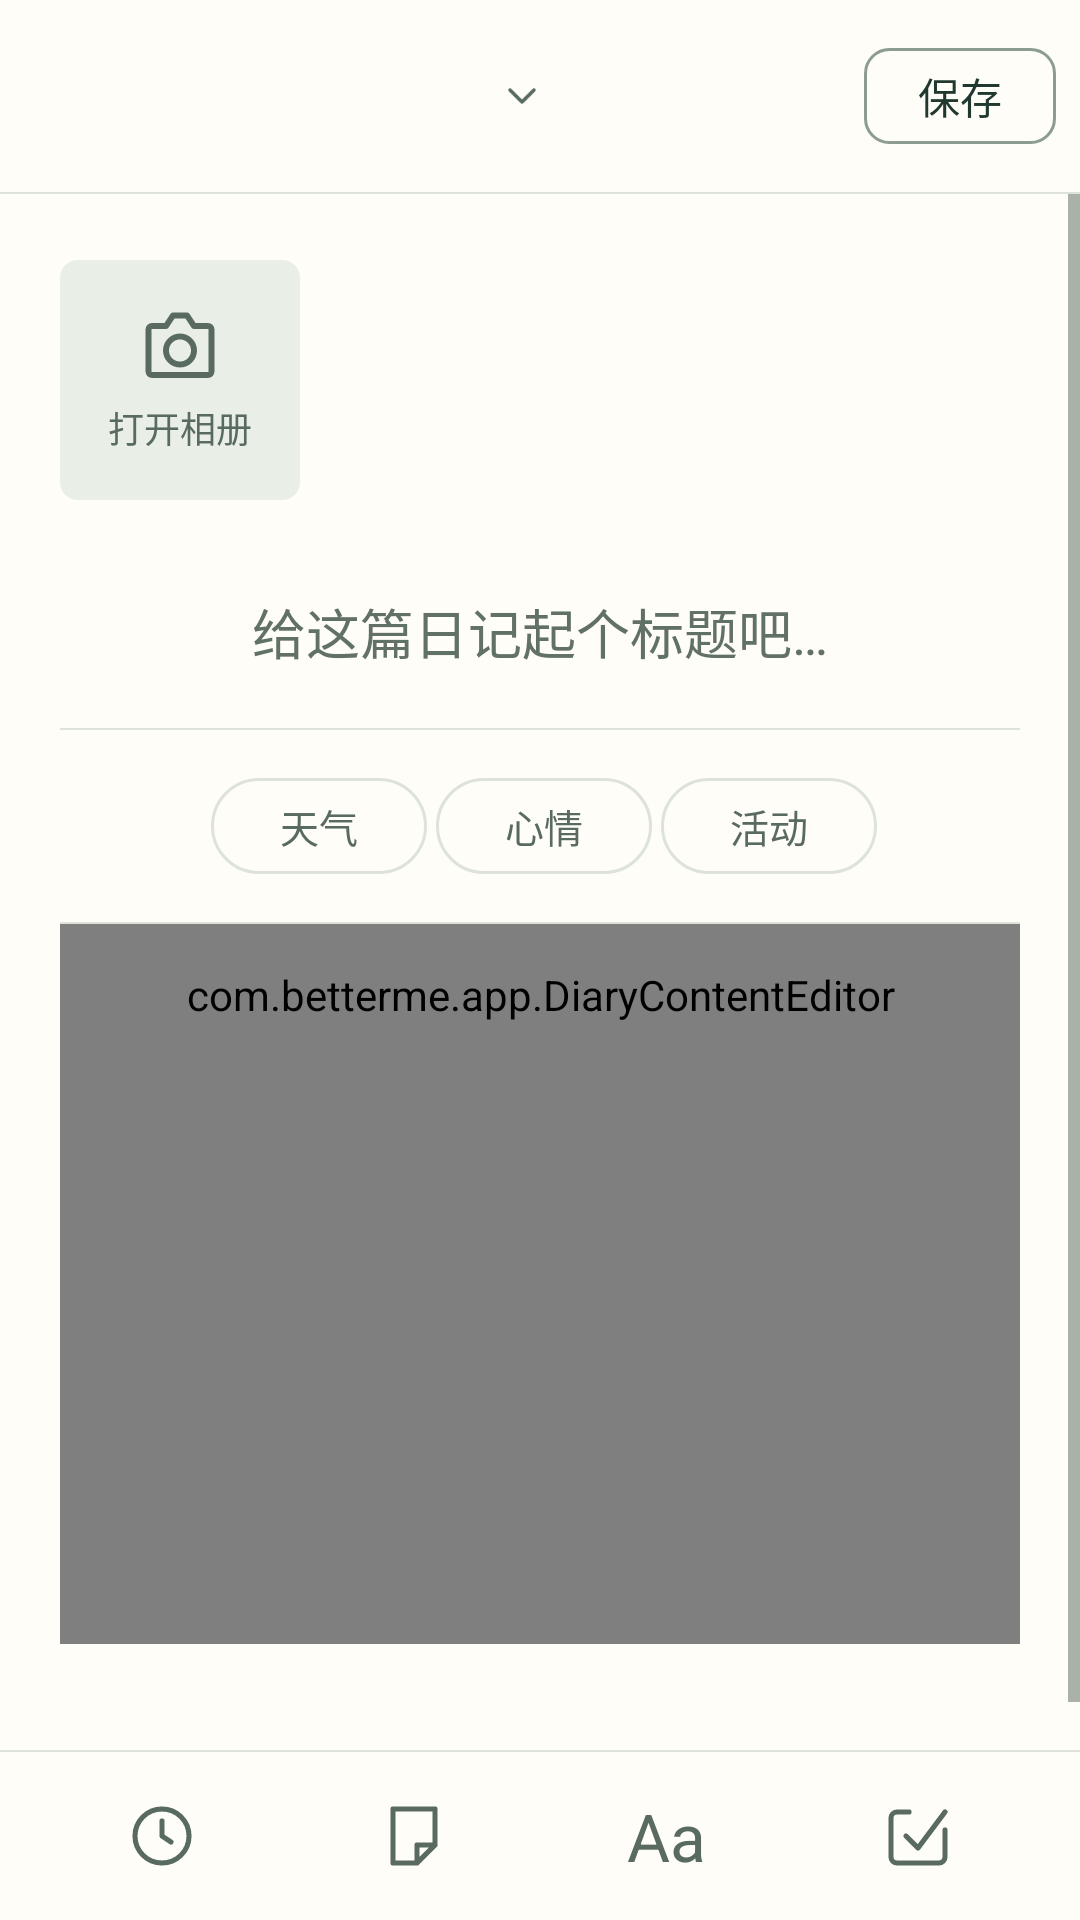

Icons on this 1080 × 1920 Android screen, each with its box as (x1, y1, x2, y2):
diary camera: (145, 312, 215, 378)
diary down: (508, 88, 536, 104)
插入当前时间: (132, 1806, 192, 1866)
插入待办事项: (888, 1809, 948, 1866)
